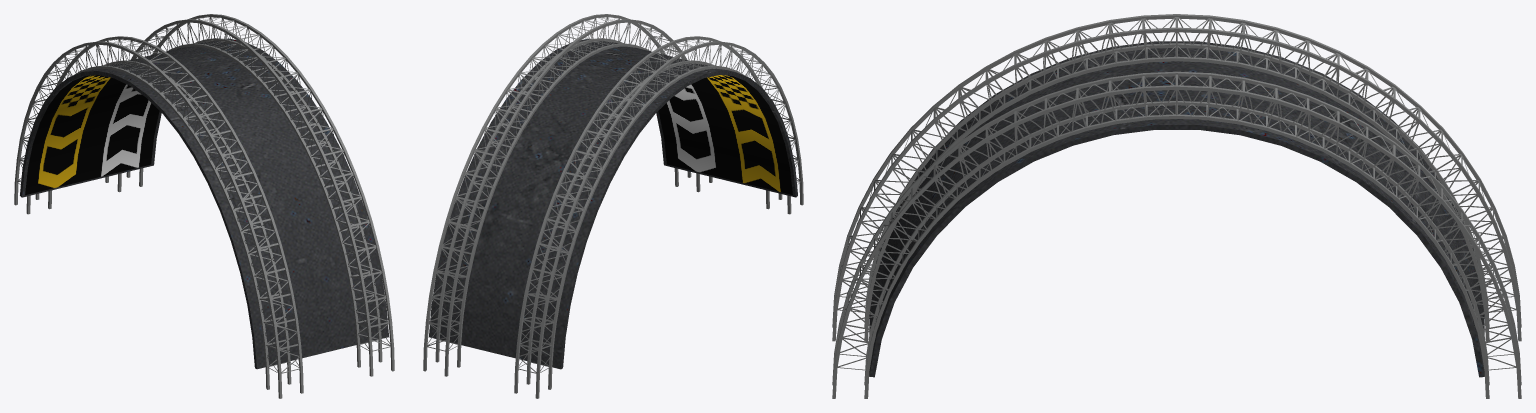
Rendered from BillboardLight_.fbx.
The picture shows the model from 3 angles, left to right: view 1: azimuth 30°, elevation 25°; view 2: azimuth 150°, elevation 25°; view 3: azimuth 270°, elevation 25°; orthographic projection. The views are drawn at different scales.
Visible parts, largest first — view 1: Track_Decoration 1; view 2: Track_Decoration 1; view 3: Track_Decoration 1.
Part boxes in pixels (x1,y1,x2,y2): Track_Decoration 1: (14,14,394,398); Track_Decoration 1: (423,14,803,398); Track_Decoration 1: (832,14,1521,398).
Size of the model in its own units: 4.93 by 8.59 by 17.18.
Materials: 2 (2 with a texture image).
